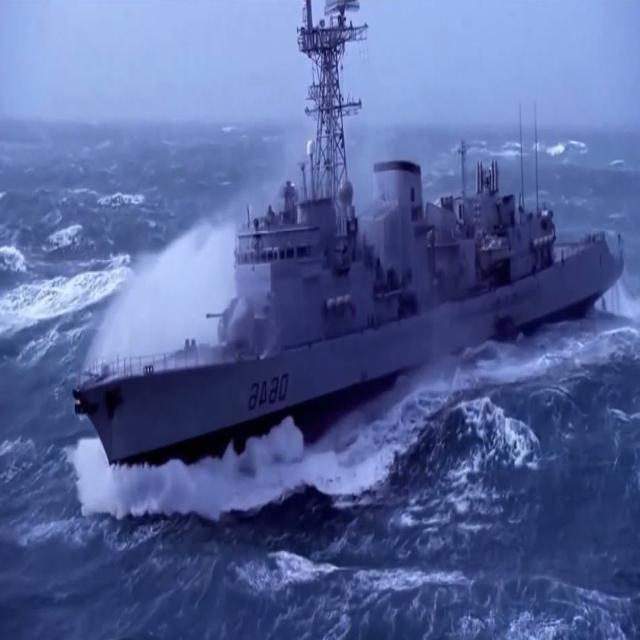navalvessels: (72, 19, 631, 474)
